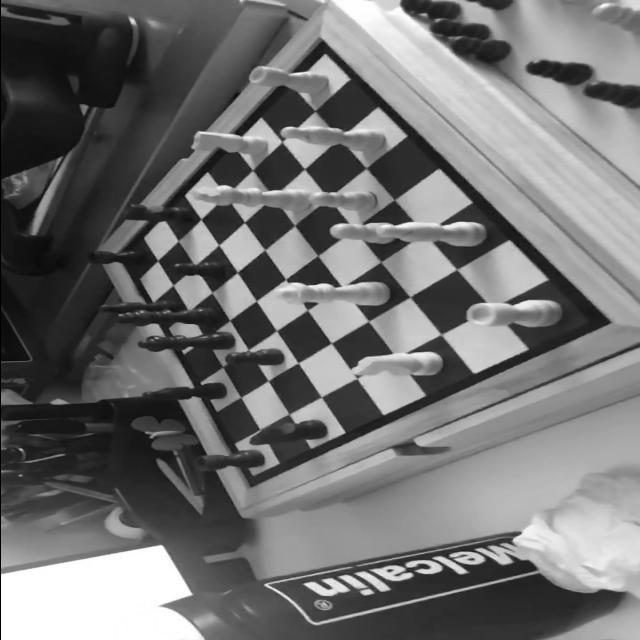chess-table-corners: (589, 307, 623, 338), (300, 26, 340, 49), (237, 481, 260, 494)
